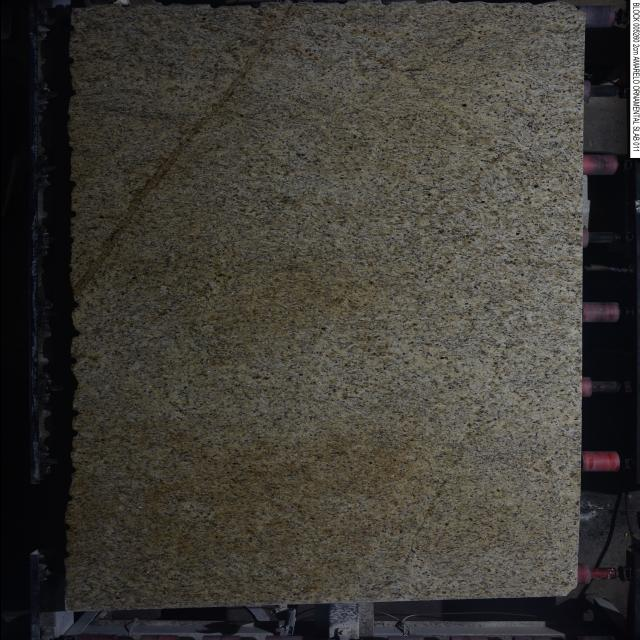chapa: (64, 2, 582, 610)
veio: (68, 327, 80, 341)
